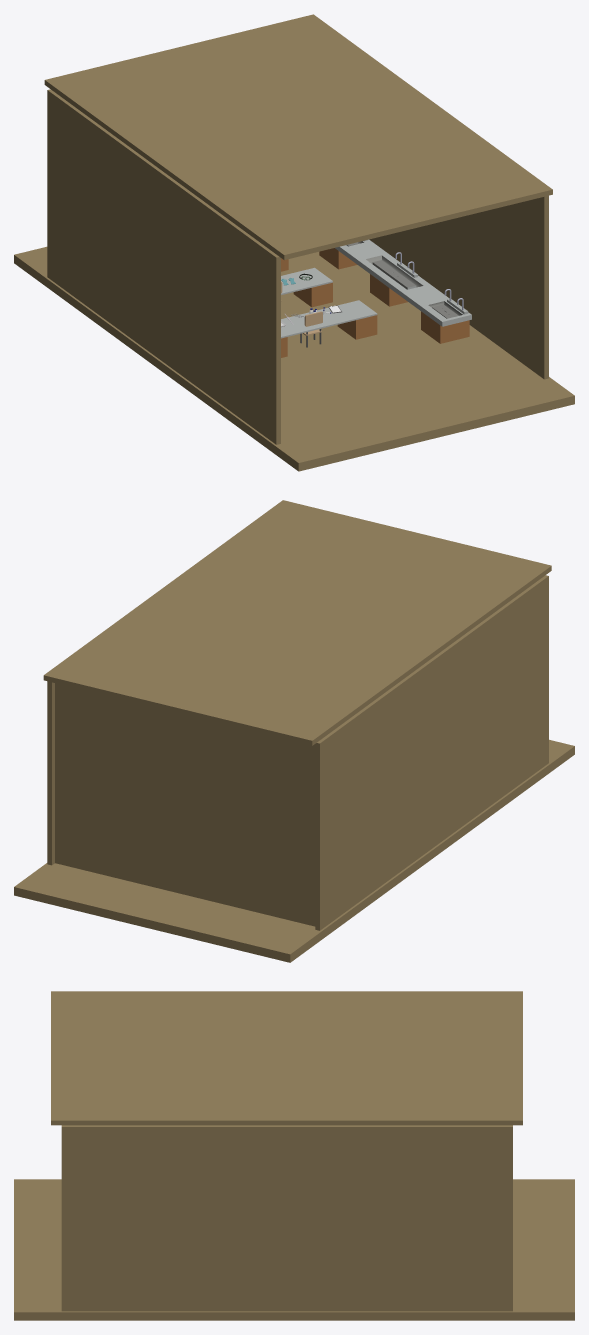
The model's file is VirtualChemLab - Copy.glb.
3 views of the same model, one above another, from view 1: azimuth 30°, elevation 25°; view 2: azimuth 150°, elevation 25°; view 3: azimuth 270°, elevation 25° (orthographic).
Visible parts, largest first — view 1: Plane.004, Plane.001, Plane.002, Cube.020, TableHead, Cube.019, Cube.005; view 2: Plane.004, Plane, Plane.001, Plane.002; view 3: Plane.001, Plane.004, Plane.002.
Boxes of the visible parts, x1,y1,x2,y2 form: Plane.004: (44, 14, 552, 259); Plane.001: (47, 89, 548, 444); Plane.002: (14, 246, 574, 471); Cube.020: (335, 239, 471, 326); TableHead: (281, 267, 377, 338); Cube.019: (319, 248, 469, 343); Cube.005: (281, 258, 377, 357); Plane.004: (43, 500, 551, 745); Plane: (55, 683, 315, 926); Plane.001: (47, 575, 548, 930); Plane.002: (14, 739, 574, 962); Plane.001: (61, 1125, 512, 1311); Plane.004: (51, 991, 522, 1125); Plane.002: (14, 1179, 574, 1320).
Bounding box in the file's own units: 147 × 103 × 263.
